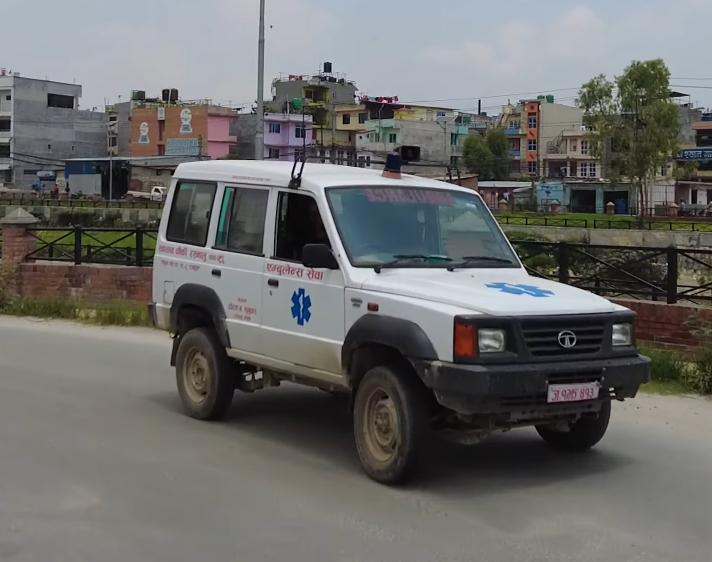ambulance: (147, 137, 659, 496)
